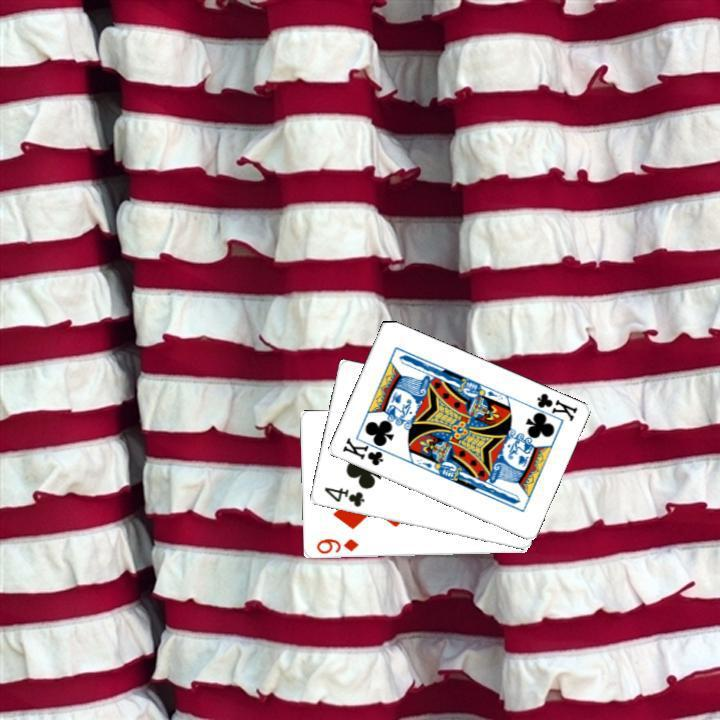4: (319, 483, 366, 509)
9: (312, 534, 360, 555)
K: (523, 389, 579, 425), (338, 432, 393, 468)
